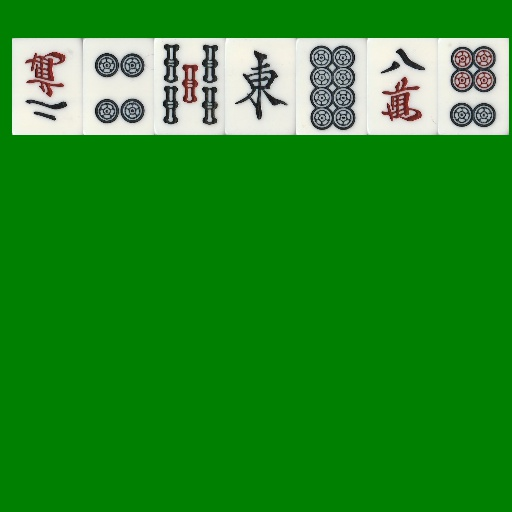2m: (12, 38, 83, 135)
4p: (83, 38, 154, 135)
5s: (154, 38, 225, 135)
6p: (438, 38, 509, 135)
8m: (367, 38, 438, 135)
8p: (296, 38, 367, 135)
east: (225, 38, 296, 135)
